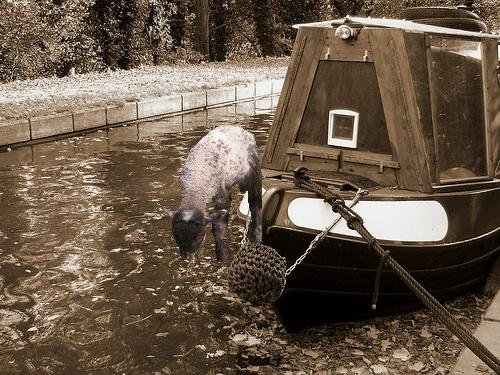tampered: (158, 126, 262, 263)
